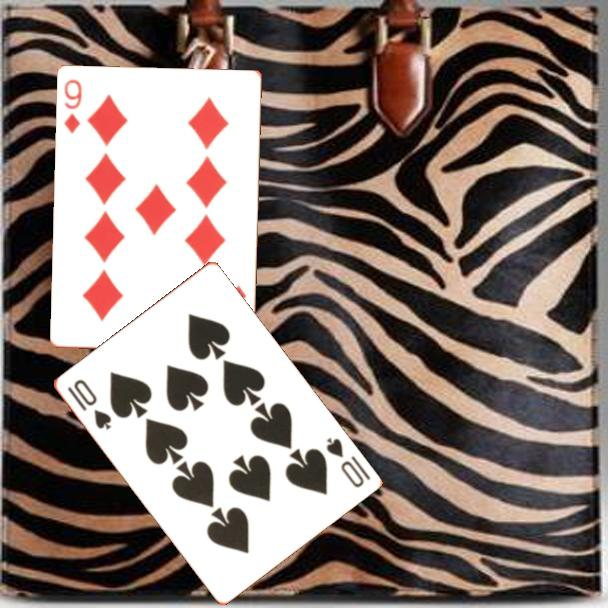d09: (61, 76, 85, 137)
s10: (63, 375, 114, 433), (322, 434, 373, 491)
